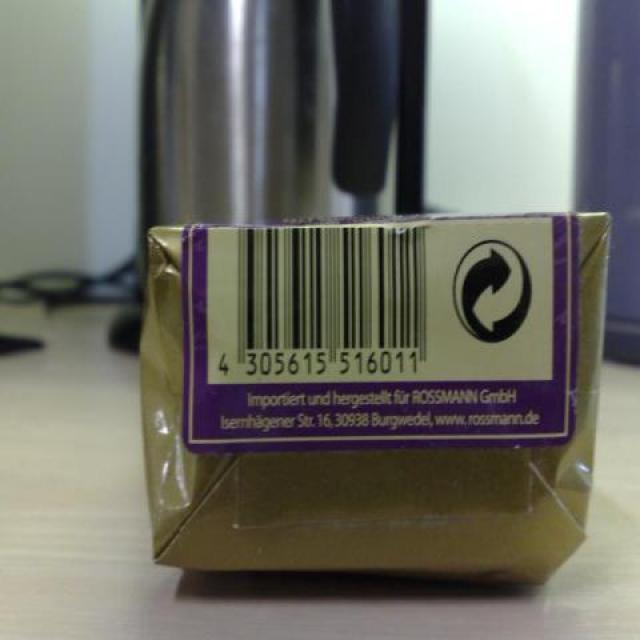Barcode: (211, 227, 446, 381)
